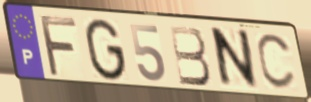5: (128, 23, 167, 84)
B: (167, 24, 214, 87)
C: (254, 32, 297, 93)
F: (37, 13, 79, 79)
G: (83, 17, 128, 83)
N: (211, 26, 260, 92)
